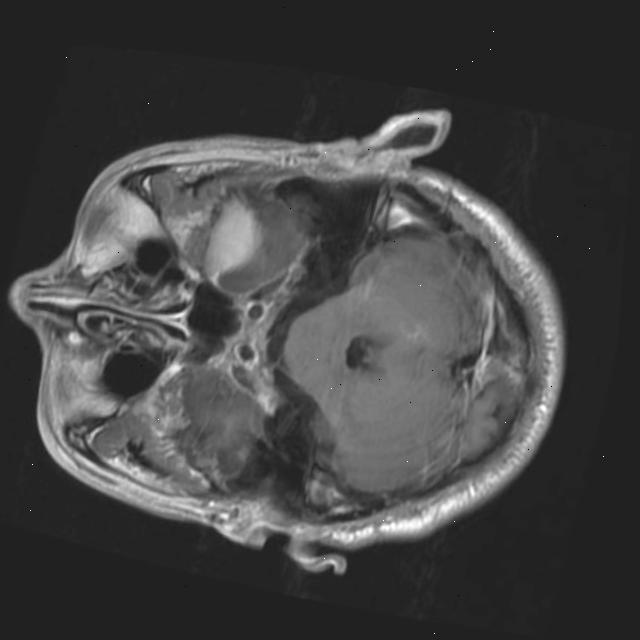Meningioma: (196, 183, 274, 286)
